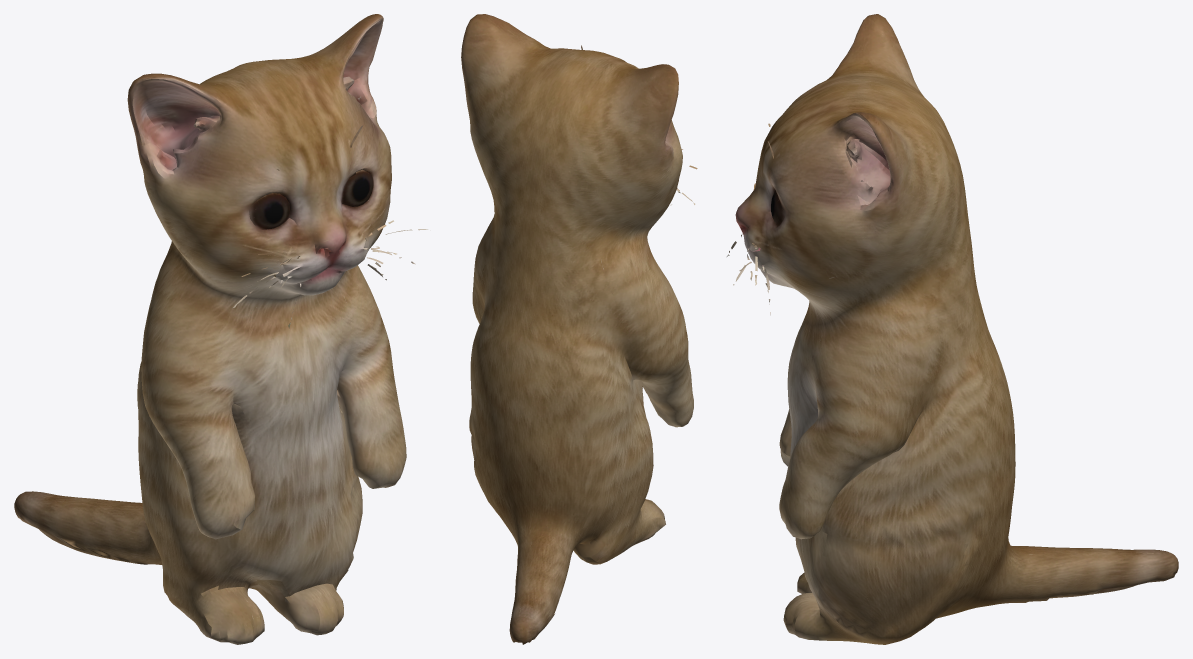
Rendered from standing-cat.glb.
The picture shows the model from 3 angles, left to right: view 1: azimuth 30°, elevation 25°; view 2: azimuth 150°, elevation 25°; view 3: azimuth 270°, elevation 25°; orthographic projection. The views are drawn at different scales.
Visible parts, largest first — view 1: Mesh_0.001; view 2: Mesh_0.001; view 3: Mesh_0.001.
Part boxes in pixels (box(x1,y1,x2,y2)): Mesh_0.001: box(14, 14, 427, 644); Mesh_0.001: box(461, 14, 697, 644); Mesh_0.001: box(727, 14, 1178, 644).
Size of the model in its own units: 0.8646 by 1.9 by 1.38.
Materials: 1 (1 with a texture image).
